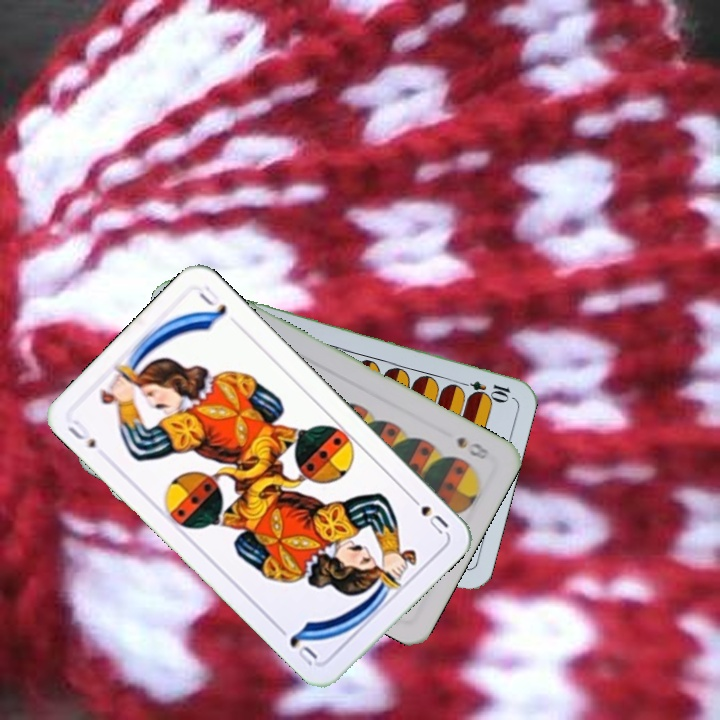E10: (454, 376, 513, 402)
S8: (452, 432, 492, 462)
SU: (404, 490, 451, 537), (64, 418, 99, 451)
